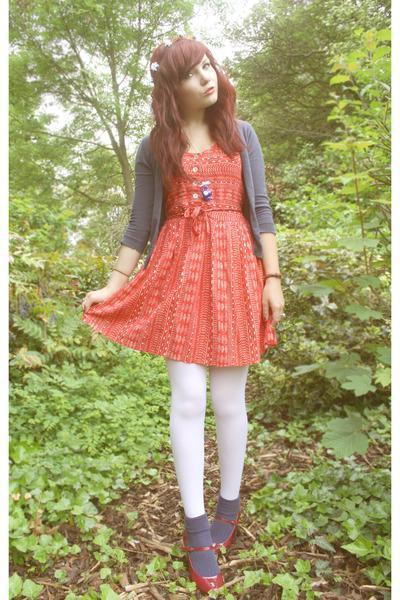bag: (253, 252, 277, 347)
dress: (80, 146, 275, 371)
jacket: (117, 119, 288, 251)
shoe: (189, 550, 221, 576)
